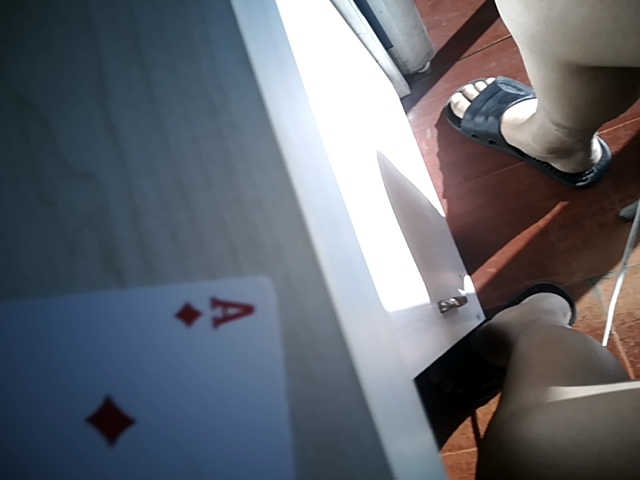fk a: (169, 288, 262, 341)
